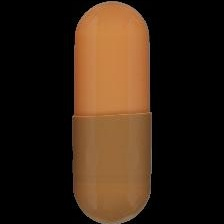63187-371: (0, 0, 224, 224)
